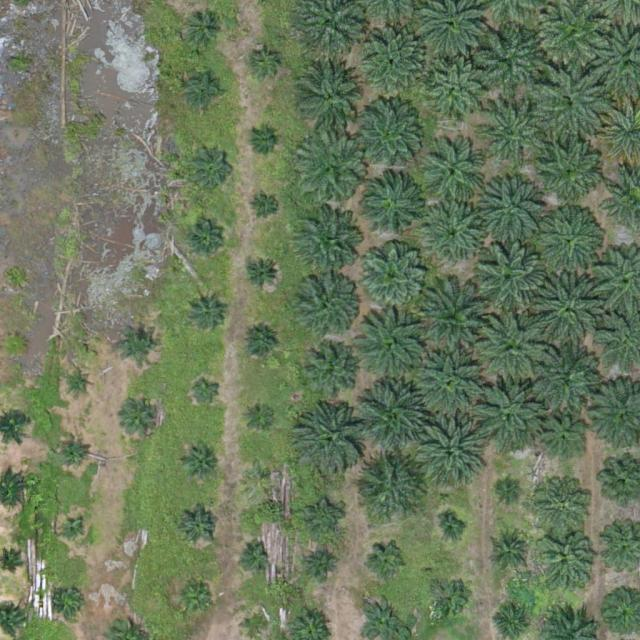Healthy: (418, 280, 496, 359), (292, 401, 370, 480), (534, 275, 605, 346), (359, 379, 430, 450), (535, 70, 606, 141), (357, 241, 428, 312), (297, 136, 368, 207), (525, 339, 596, 409), (479, 312, 549, 383), (472, 376, 542, 447), (415, 348, 485, 419), (414, 415, 484, 486), (359, 313, 429, 384), (354, 451, 424, 522), (296, 59, 367, 129), (473, 26, 543, 97), (533, 136, 603, 207), (293, 211, 363, 282), (478, 99, 548, 169), (476, 244, 546, 314), (354, 102, 424, 172), (425, 63, 488, 126), (539, 211, 602, 274), (364, 174, 427, 237), (365, 29, 427, 92), (481, 177, 543, 240), (424, 145, 486, 208), (424, 203, 487, 265), (297, 272, 359, 335), (534, 477, 589, 532), (539, 536, 594, 591), (303, 345, 358, 400), (538, 416, 585, 464)
Small: (189, 144, 236, 191), (118, 324, 158, 364), (427, 578, 467, 618), (175, 578, 215, 618), (125, 397, 165, 436), (187, 223, 226, 263), (180, 507, 219, 547), (305, 499, 344, 539), (370, 542, 409, 582), (187, 11, 226, 50), (186, 72, 225, 111), (187, 293, 226, 332), (180, 442, 219, 481), (241, 325, 280, 364), (243, 255, 282, 294), (251, 47, 282, 79), (309, 548, 340, 580), (245, 398, 276, 430), (245, 459, 276, 491), (238, 539, 269, 571), (192, 374, 223, 406), (248, 124, 279, 156), (57, 586, 88, 617), (495, 535, 526, 566), (58, 436, 89, 467), (251, 192, 282, 223), (500, 479, 524, 503), (69, 372, 93, 396), (62, 520, 86, 544), (4, 334, 28, 358), (441, 518, 464, 542)
